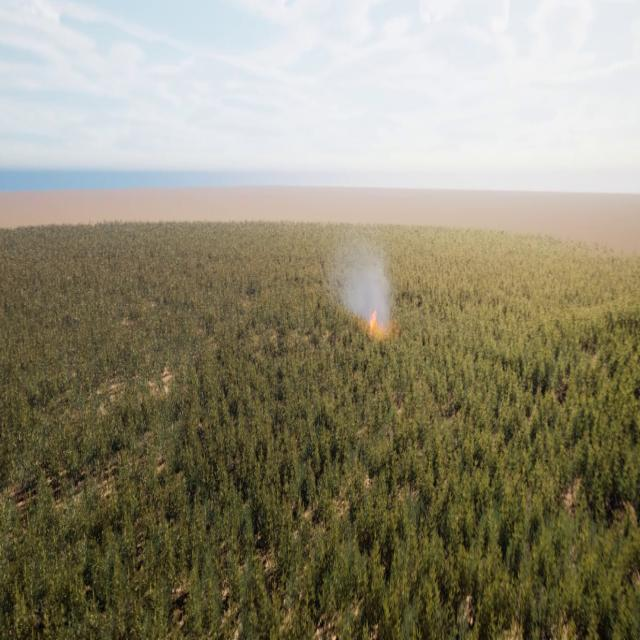fire: (366, 305, 389, 338)
smoke: (331, 240, 400, 338)
